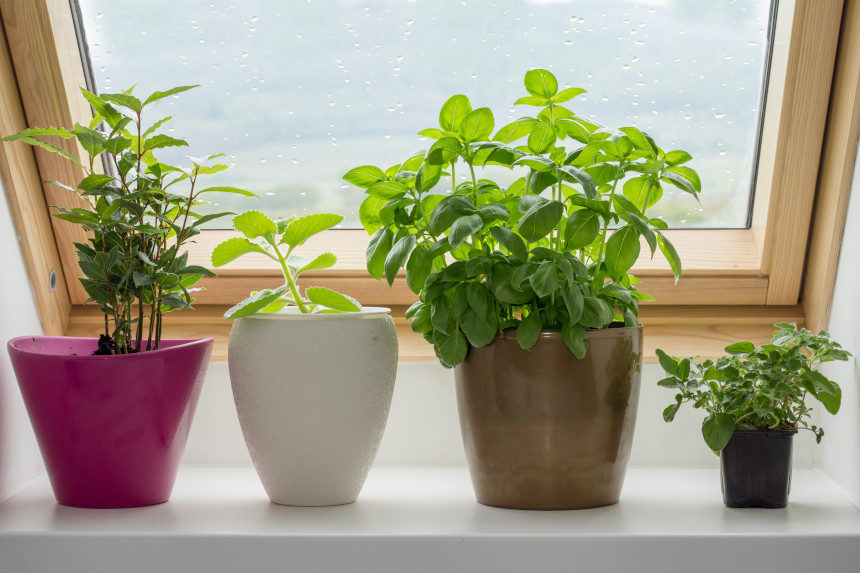plant: (3, 84, 217, 510), (445, 81, 630, 510), (213, 209, 401, 507), (653, 322, 855, 513)
